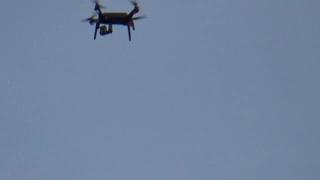UAV: (80, 0, 148, 42)
